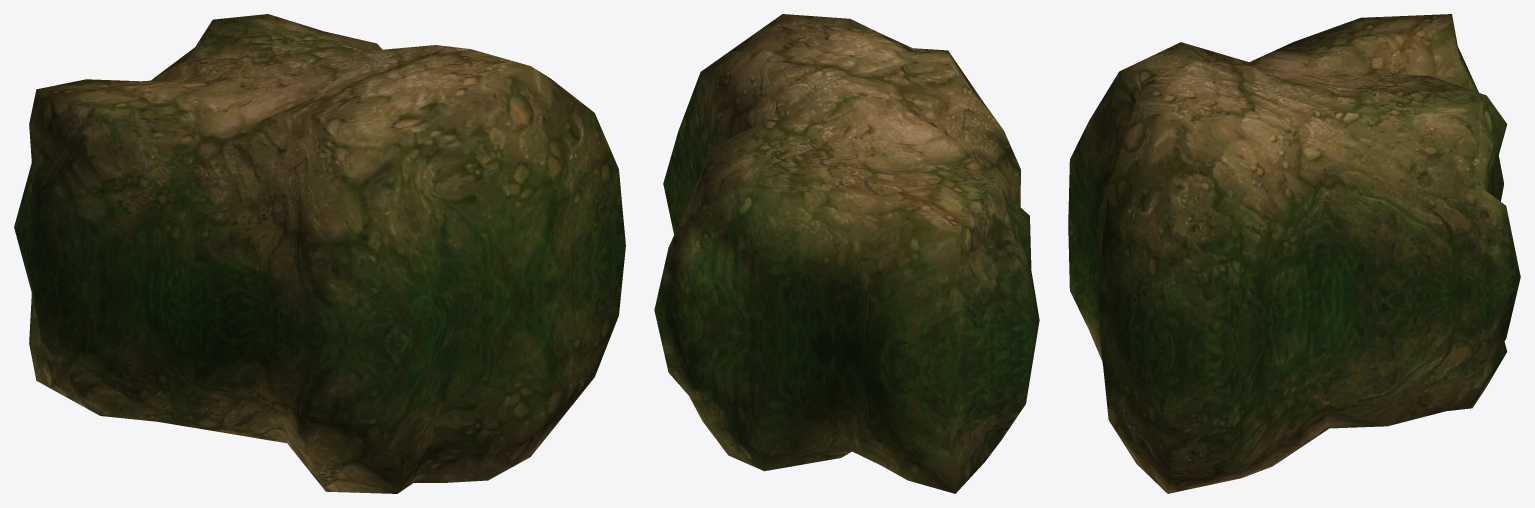
3 views of the same model, side by side, from view 1: azimuth 30°, elevation 25°; view 2: azimuth 150°, elevation 25°; view 3: azimuth 270°, elevation 25° (orthographic). The views are drawn at different scales.
Size of the model in its own units: 9.14 by 6.91 by 7.68.
1 material, 1 textured.
